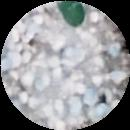Basil: (55, 0, 81, 26)
